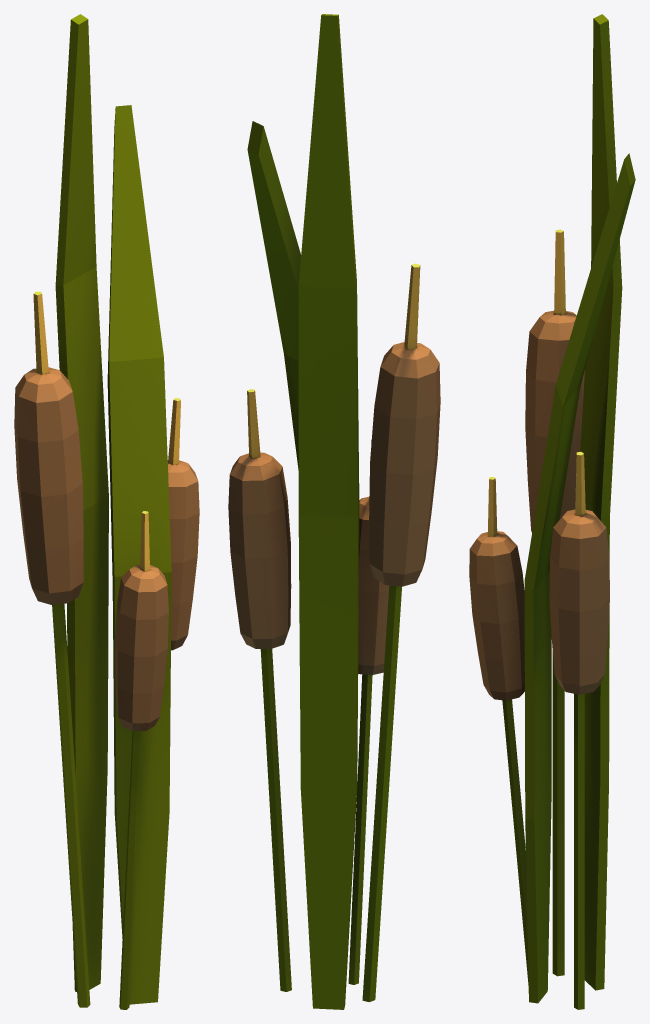
Rendered from PUSHILIN_Cattail.obj.
The picture shows the model from 3 angles, left to right: view 1: azimuth 30°, elevation 25°; view 2: azimuth 150°, elevation 25°; view 3: azimuth 270°, elevation 25°; orthographic projection. The views are drawn at different scales.
Visible parts, largest first — view 1: Cattail; view 2: Cattail; view 3: Cattail.
Part boxes in pixels (x1,y1,x2,y2): Cattail: (14,14,199,1009); Cattail: (228,14,440,1009); Cattail: (469,14,635,1009).
Size of the model in its own units: 0.4127 by 2.02 by 0.3153.
1 material, 1 textured.
